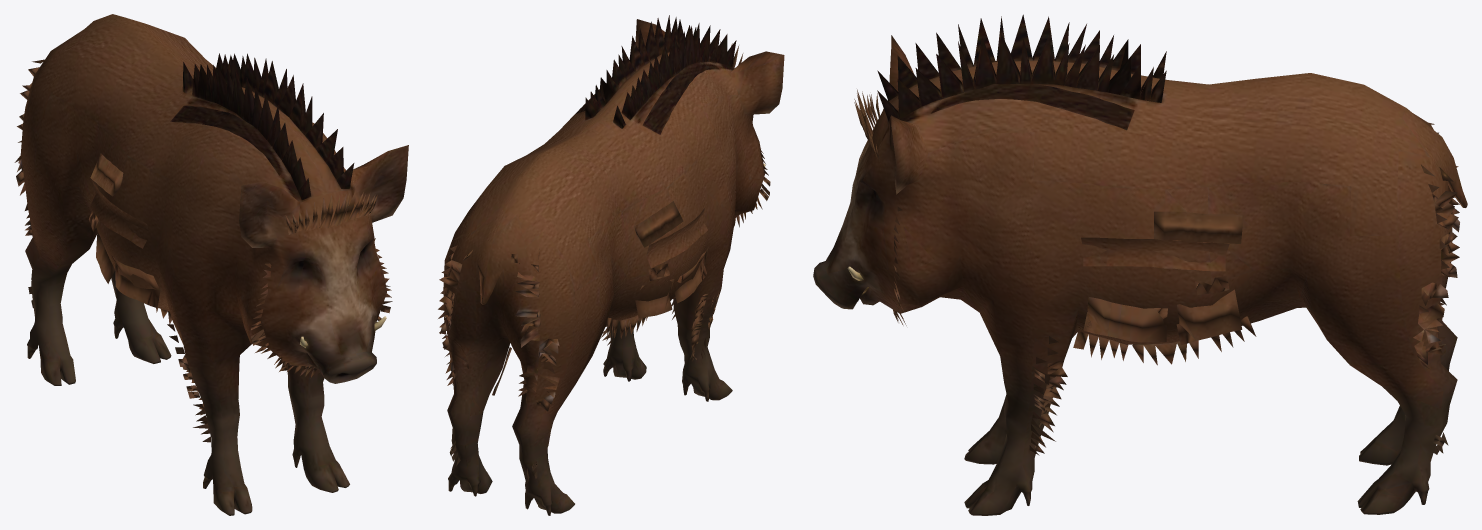
File: javaporco_ruivo.glb
3 views of the same model, side by side, from view 1: azimuth 30°, elevation 25°; view 2: azimuth 150°, elevation 25°; view 3: azimuth 270°, elevation 25° (orthographic). The views are drawn at different scales.
Visible parts, largest first — view 1: Javaporco ruivo; view 2: Javaporco ruivo; view 3: Javaporco ruivo.
Boxes of the visible parts, <box> form: Javaporco ruivo: <box>14,14,408,515</box>; Javaporco ruivo: <box>438,15,784,515</box>; Javaporco ruivo: <box>813,14,1467,515</box>.
Bounding box in the file's own units: 0.373 × 0.7715 × 0.998.
1 material, 1 textured.
